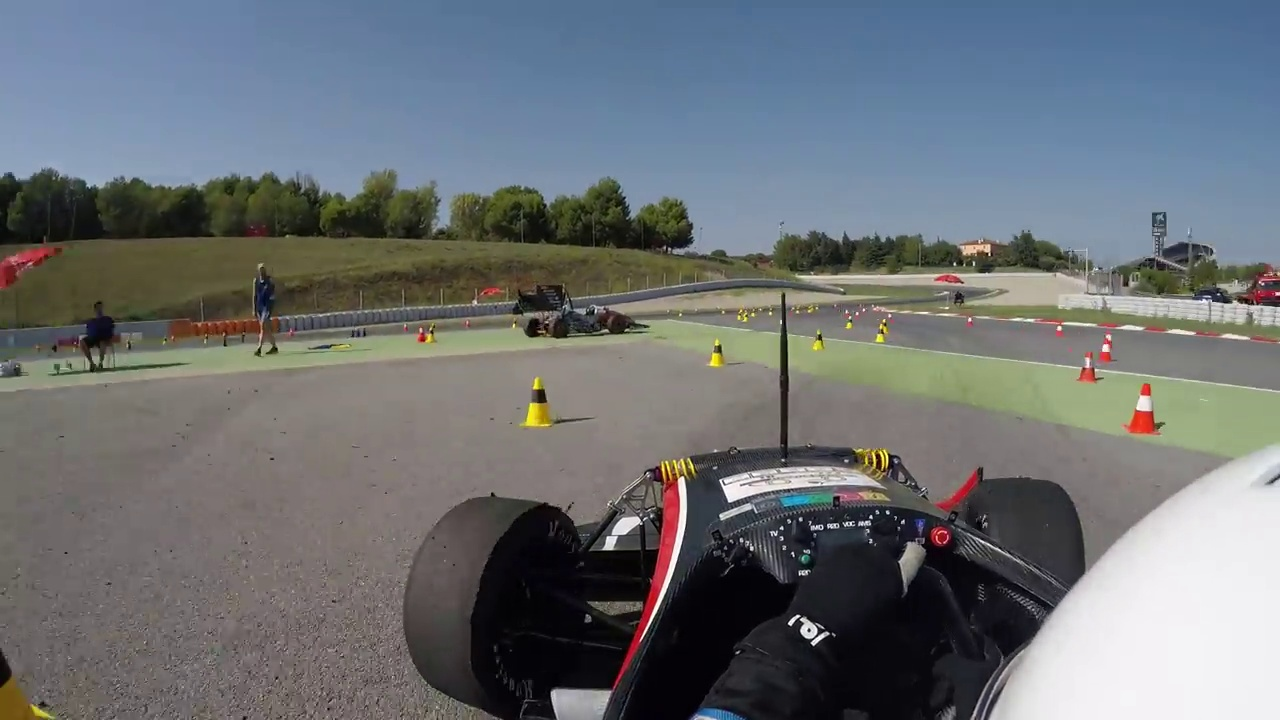Cone: (1125, 381, 1163, 432), (526, 376, 553, 427), (706, 336, 730, 367), (1076, 350, 1098, 380)
